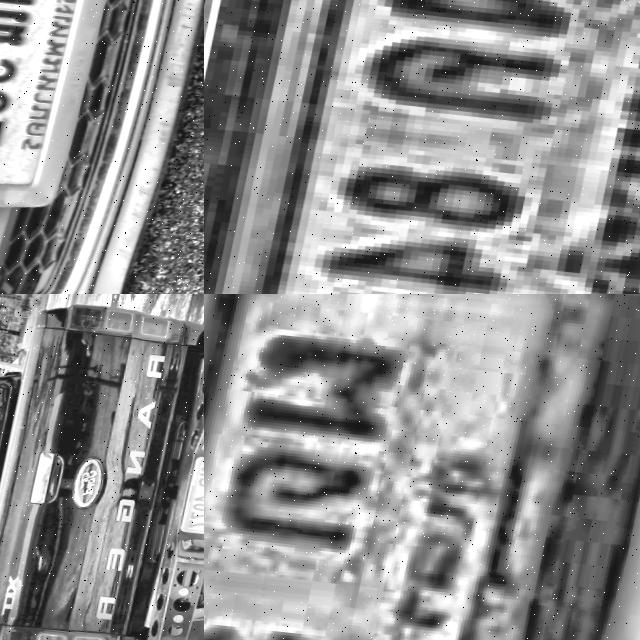license-plate: (204, 294, 631, 640), (204, 0, 640, 294), (0, 0, 124, 211), (185, 451, 204, 538)
